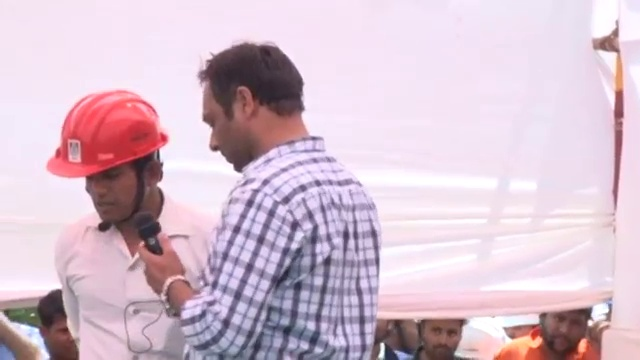helmet: (43, 90, 170, 186), (452, 318, 512, 360)
helmet_off: (191, 42, 310, 154), (30, 294, 82, 360), (539, 305, 593, 354), (416, 319, 466, 358)
helmet_on: (42, 90, 169, 234)
person: (139, 44, 380, 360), (36, 93, 208, 360), (495, 304, 607, 360)
